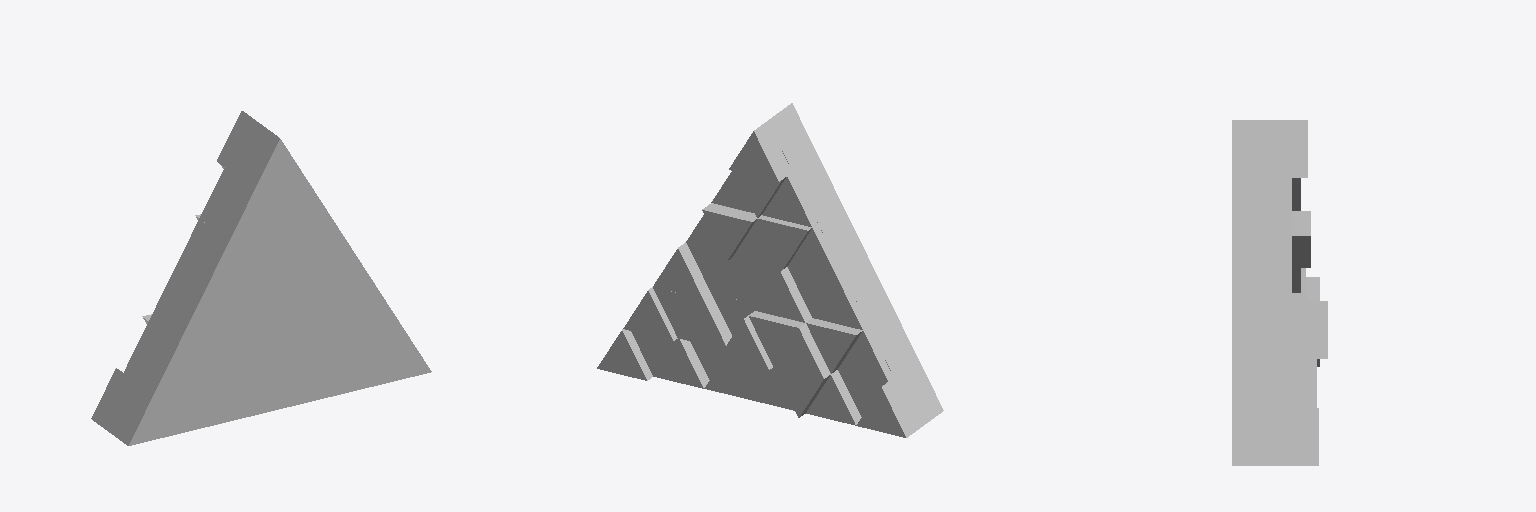
The model's file is Tyle_Triangular 1.obj.
3 views of the same model, side by side, from view 1: azimuth 30°, elevation 25°; view 2: azimuth 150°, elevation 25°; view 3: azimuth 270°, elevation 25° (orthographic).
Bounding box in the file's own units: 1.14 × 0.9759 × 0.3158.